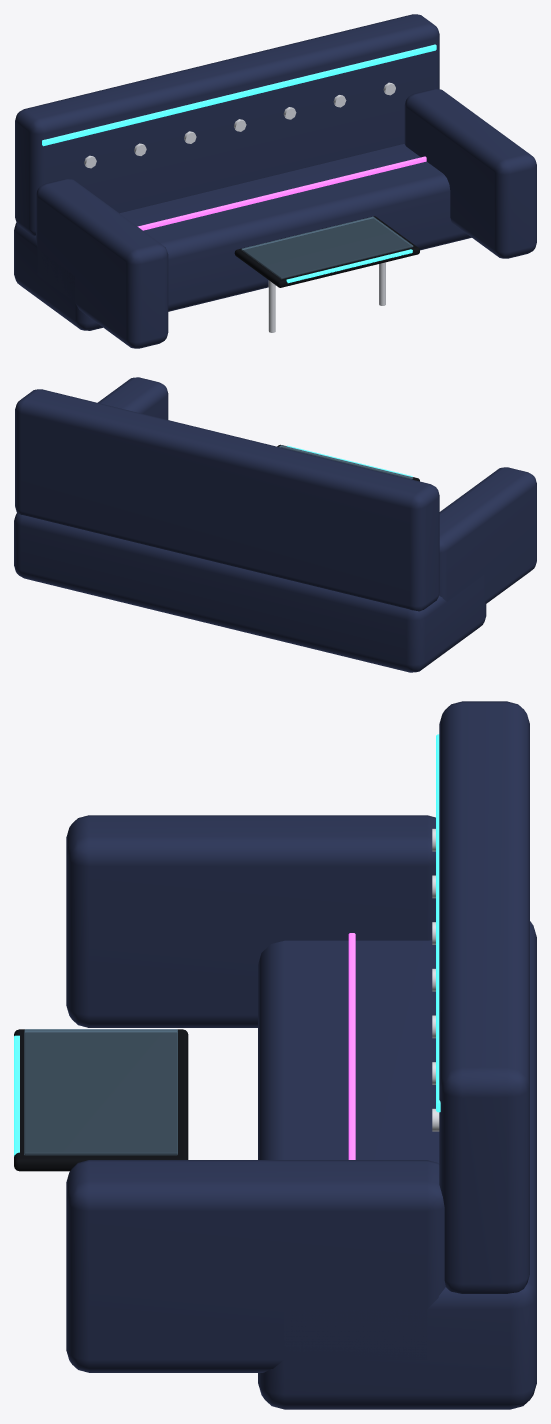
File: vip_booth.glb
3 renders of one model, top to bottom at view 1: azimuth 30°, elevation 25°; view 2: azimuth 150°, elevation 25°; view 3: azimuth 270°, elevation 25°, orthographic. The views are drawn at different scales.
Visible parts, largest first — view 1: vip_booth; view 2: vip_booth; view 3: vip_booth.
Boxes of the visible parts, <box> form: vip_booth: <box>14,14,536,348</box>; vip_booth: <box>14,377,536,672</box>; vip_booth: <box>14,701,536,1409</box>.
Bounding box in the file's own units: 2.6 × 1.08 × 1.5.
